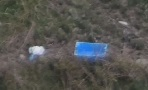scattered_barrel: (14, 10, 139, 80)
